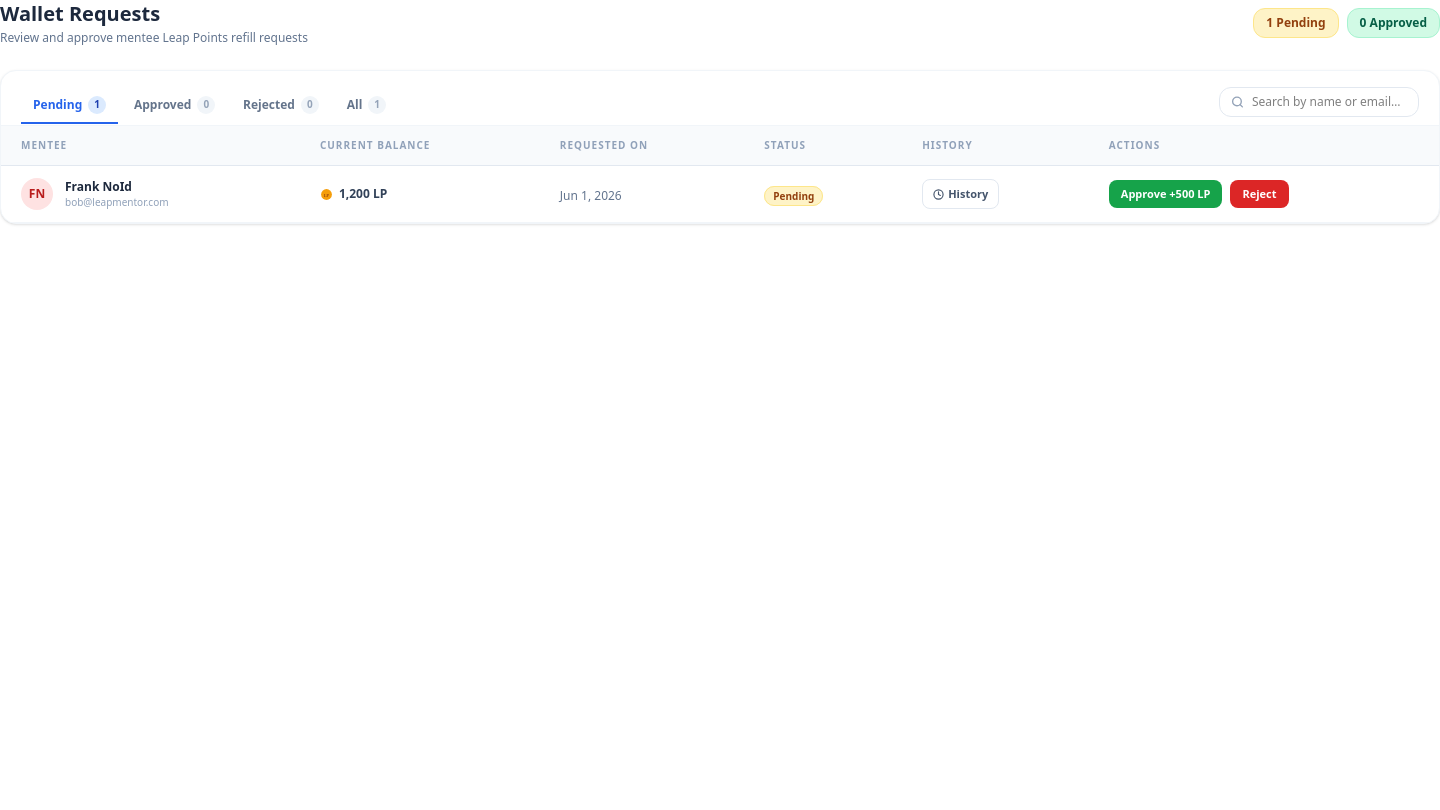
AdminWalletRequests › filters engagements by mentee.email when _id does not match
The image size is (1440, 810).
expect the text "Frank NoId" is shown: met, box x1=65 y1=178 x2=132 y2=194
Click the button "History" at (961, 194), box x1=922 y1=179 x2=999 y2=209
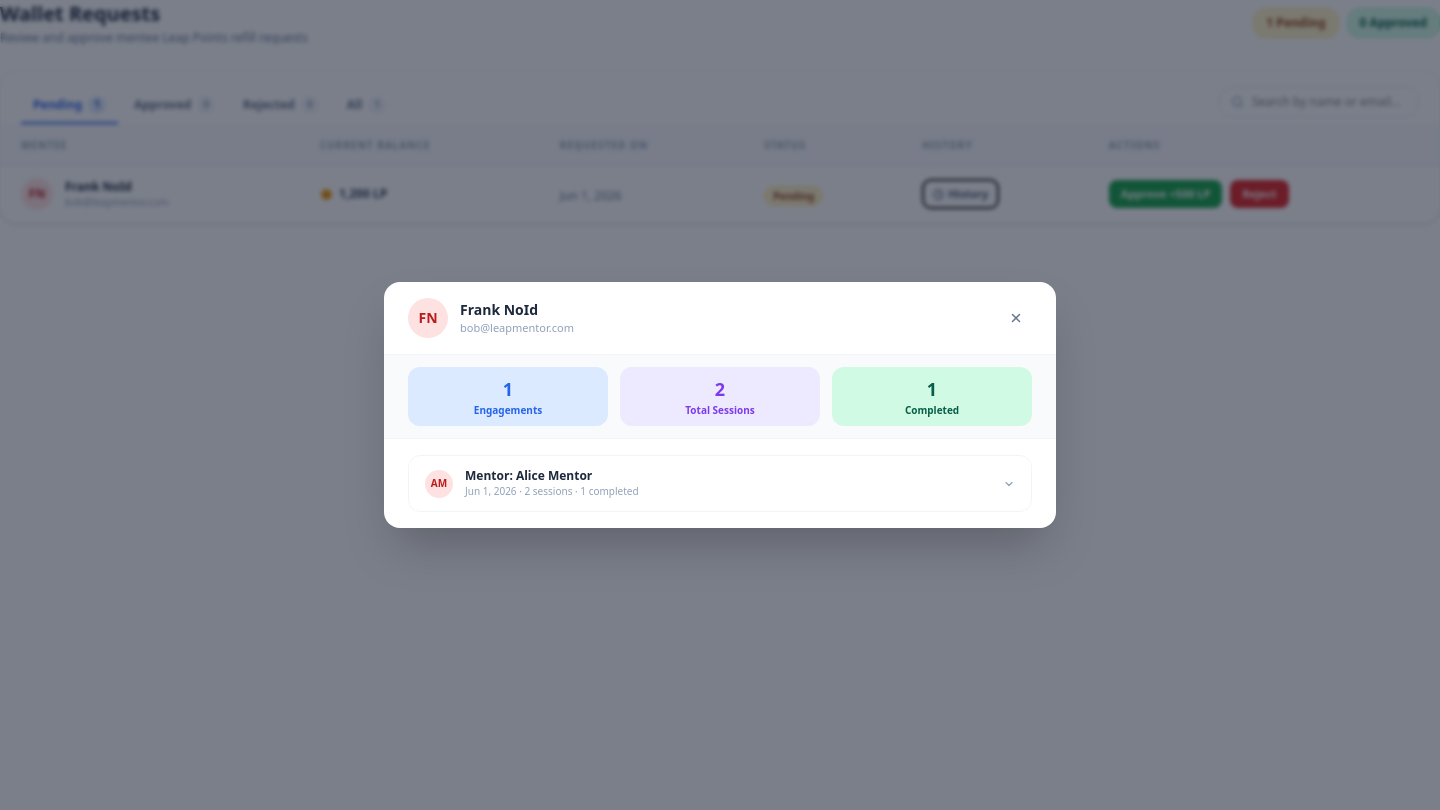
expect the text "Mentor: Alice Mentor" is shown: met, box x1=465 y1=467 x2=592 y2=484
